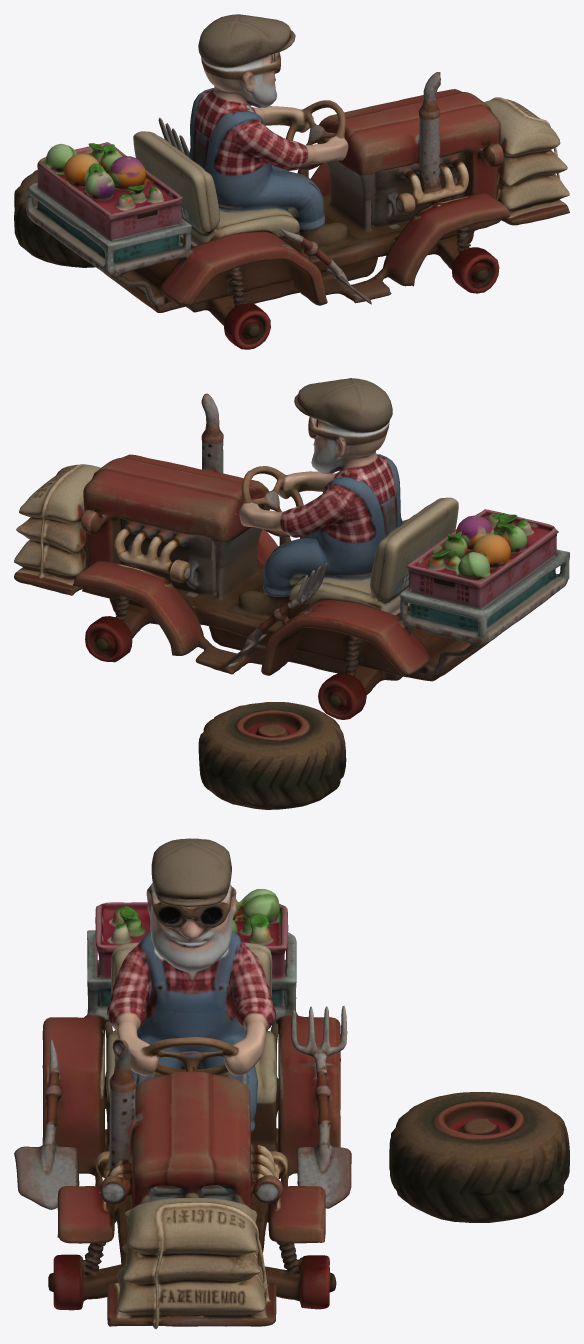
The model's file is farm+tractor+3d+model.fbx.
3 renders of one model, top to bottom at view 1: azimuth 30°, elevation 25°; view 2: azimuth 150°, elevation 25°; view 3: azimuth 270°, elevation 25°, orthographic. The views are drawn at different scales.
Parts seen in each view (by area): view 1: tripo_node_dbca2903; view 2: tripo_node_dbca2903; view 3: tripo_node_dbca2903.
Boxes of the visible parts, x1,y1,x2,y2 form: tripo_node_dbca2903: (14, 14, 569, 349); tripo_node_dbca2903: (14, 378, 569, 809); tripo_node_dbca2903: (14, 838, 569, 1329).
Size of the model in its own units: 0.9984 by 0.5985 by 0.8029.
1 material, 1 textured.
